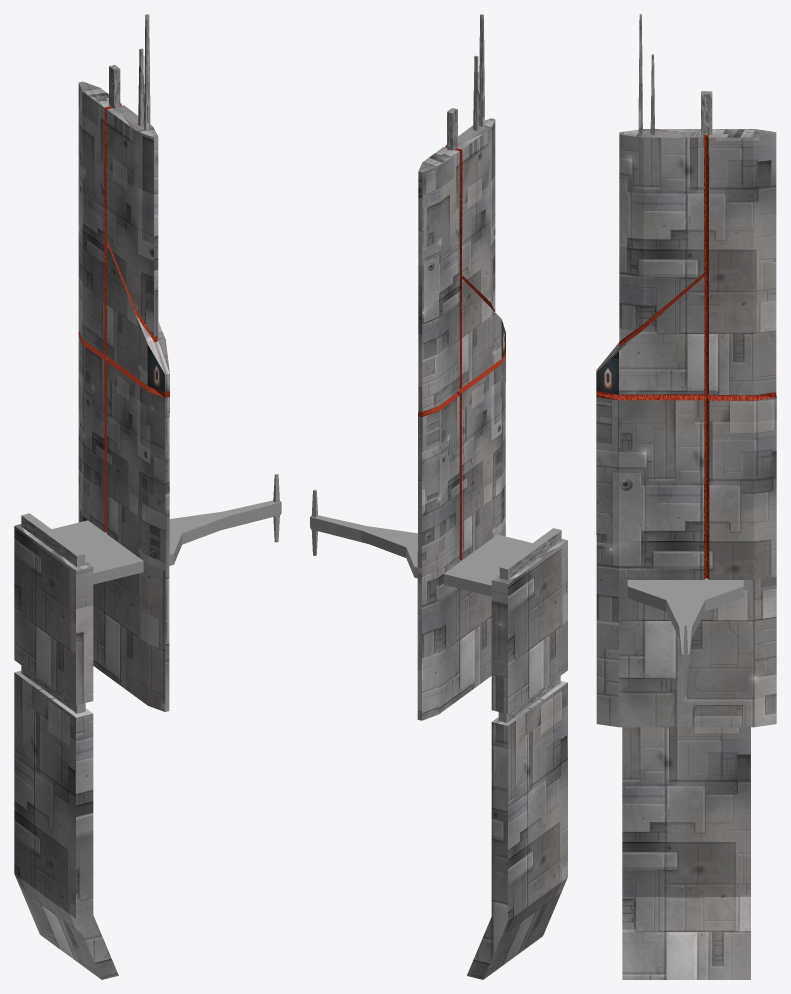
The model's file is chronos_station.obj.
3 views of the same model, side by side, from view 1: azimuth 30°, elevation 25°; view 2: azimuth 150°, elevation 25°; view 3: azimuth 270°, elevation 25° (orthographic). The views are drawn at different scales.
Parts seen in each view (by area): view 1: Cube.006; view 2: Cube.006; view 3: Cube.006.
Boxes of the visible parts, x1=… form: Cube.006: x1=14, y1=14, x2=281, y2=979; Cube.006: x1=310, y1=14, x2=567, y2=979; Cube.006: x1=596, y1=14, x2=776, y2=979.
Bounding box in the file's own units: 5.47 × 21.09 × 3.51.
5 materials, 5 textured.
